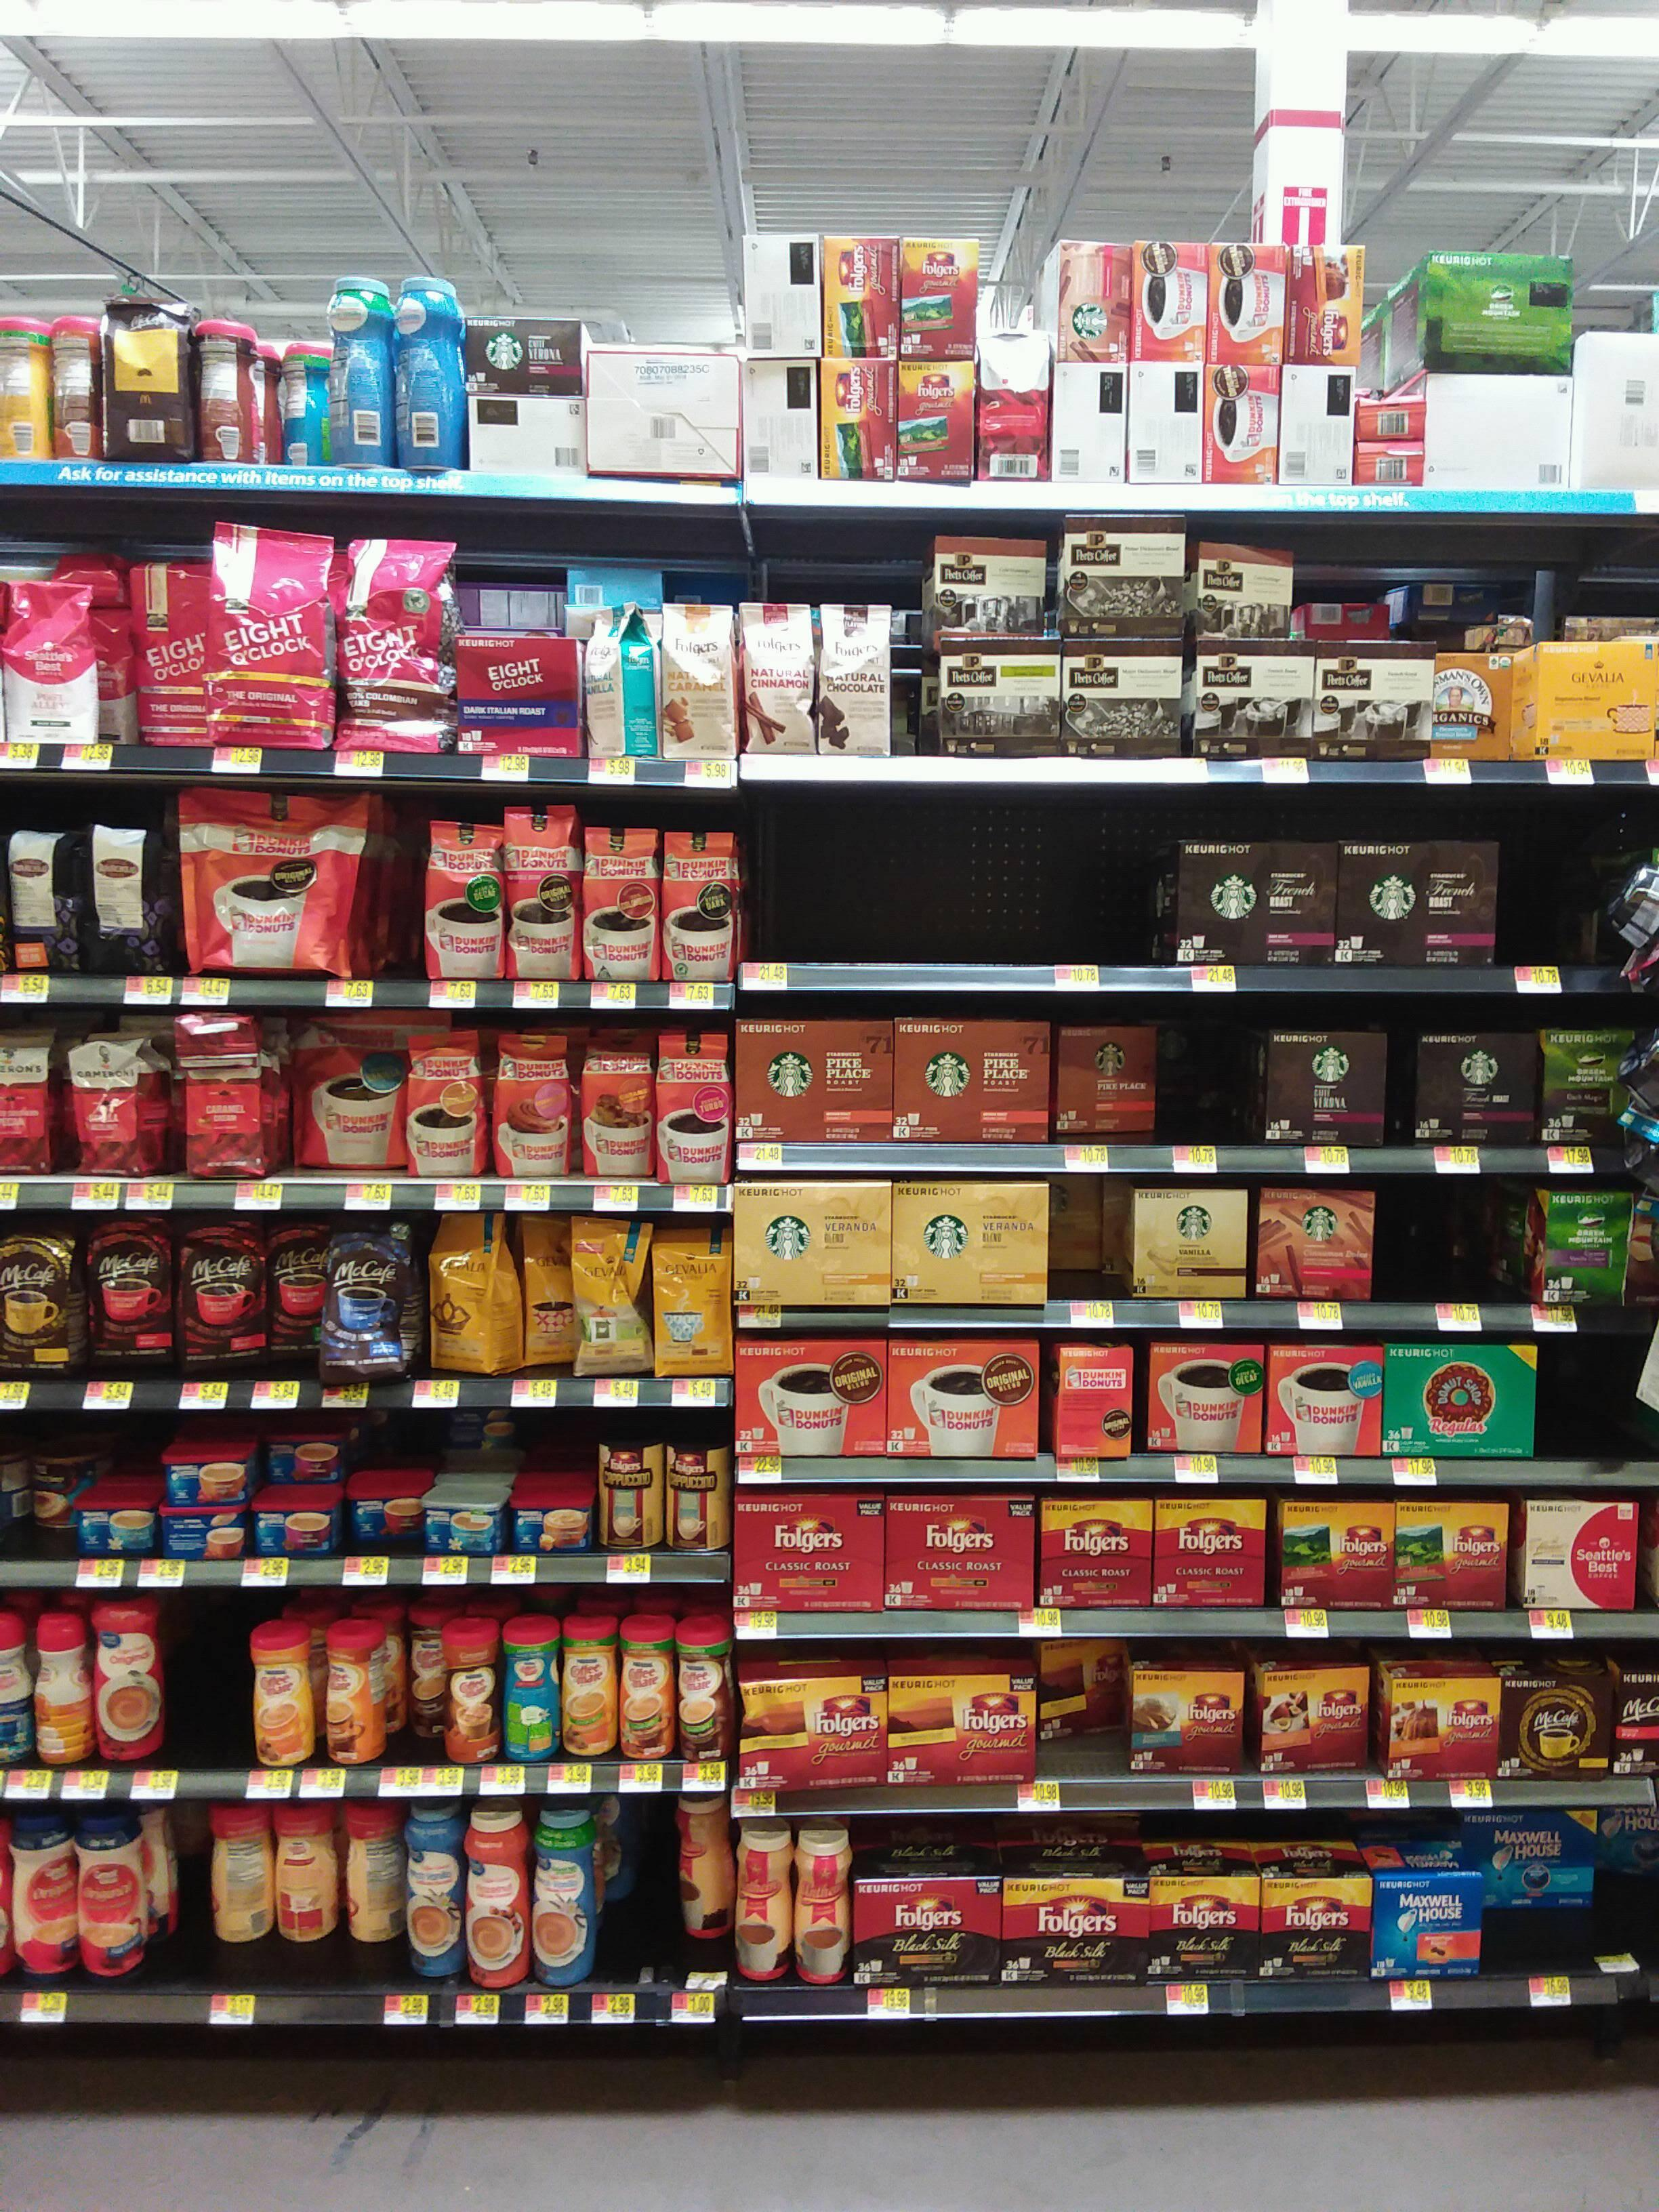empty: (1490, 1834, 1659, 1982), (1161, 1017, 1262, 1146), (1497, 829, 1593, 960), (763, 827, 857, 960), (162, 1616, 244, 1768), (153, 1832, 235, 1984), (598, 1827, 680, 1979), (866, 831, 960, 961), (967, 834, 1061, 965), (1061, 836, 1155, 967), (1378, 1177, 1469, 1303), (1539, 1338, 1629, 1463), (1054, 1172, 1138, 1303)
